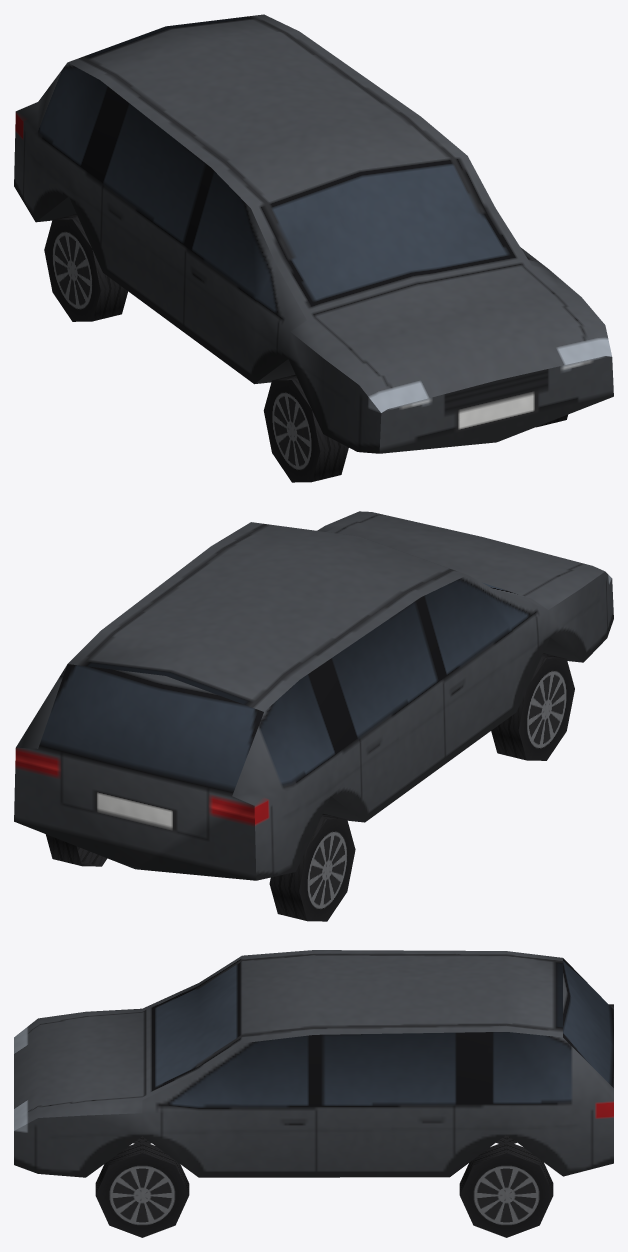
Rendered from SM_Morin_Auto_B_v2_GrigioScuro_LOD2.fbx.
3 views of the same model, one above another, from view 1: azimuth 30°, elevation 25°; view 2: azimuth 150°, elevation 25°; view 3: azimuth 270°, elevation 25° (orthographic). The views are drawn at different scales.
Parts seen in each view (by area): view 1: SM_Morin_Auto_B_v2_GrigioScuro_LOD2; view 2: SM_Morin_Auto_B_v2_GrigioScuro_LOD2; view 3: SM_Morin_Auto_B_v2_GrigioScuro_LOD2.
Part boxes in pixels (bbox=[...]): SM_Morin_Auto_B_v2_GrigioScuro_LOD2: bbox=[14, 14, 613, 482]; SM_Morin_Auto_B_v2_GrigioScuro_LOD2: bbox=[14, 511, 613, 921]; SM_Morin_Auto_B_v2_GrigioScuro_LOD2: bbox=[14, 950, 613, 1237].
Bounding box in the file's own units: 182 × 435 × 164.
Materials: 1 (1 with a texture image).
